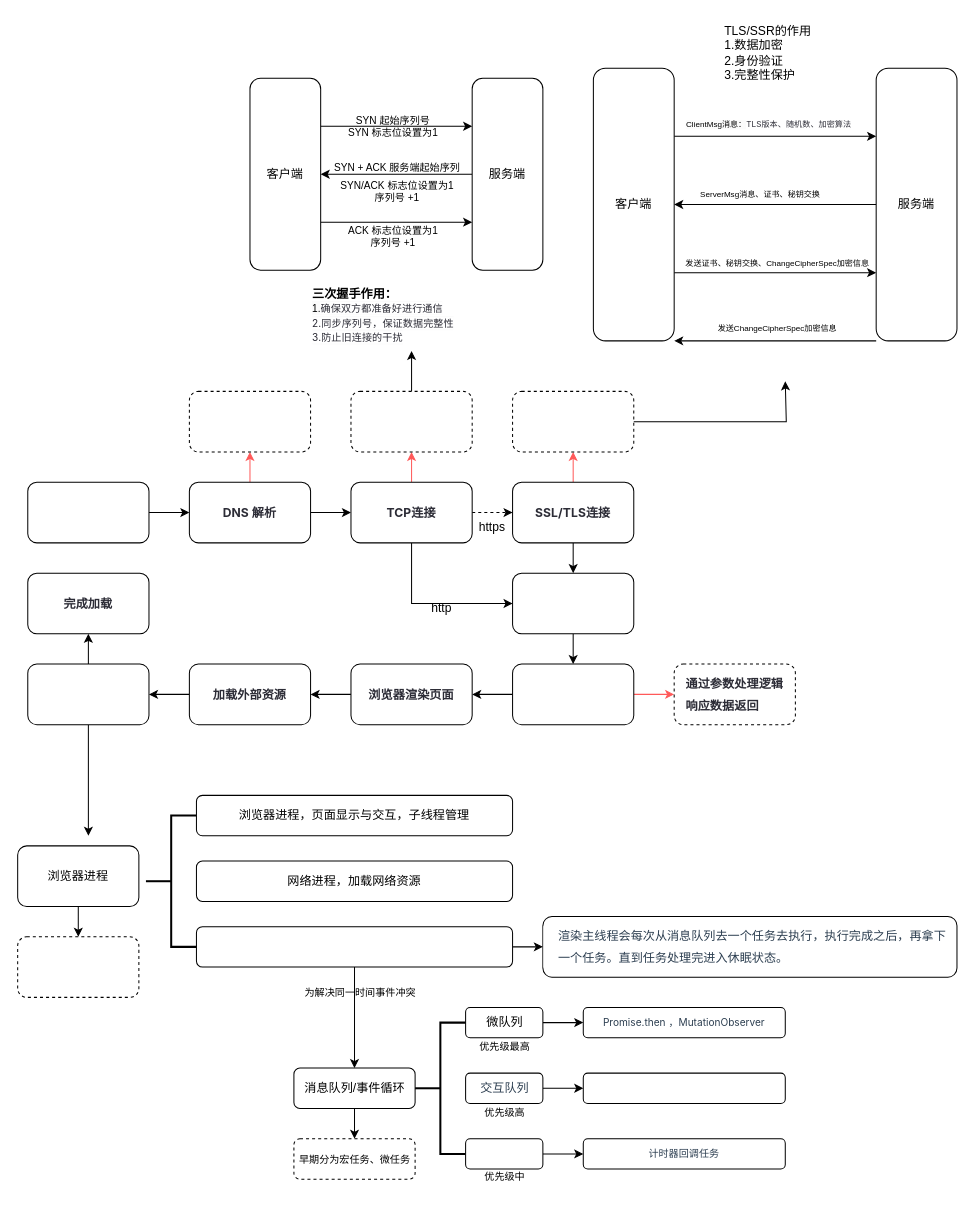
Some shapes in this 975 by 1208 pixel diagram are drawn without their labels. Each missing label, with the centre of its shape:
"1个进程至少1个线程" belongs at point 78,966.
"https 加密连接" belongs at point 573,421.
"三次握手" belongs at point 411,421.
"事件循环交互" belongs at point 88,694.
"从DNS缓存/域名服务器获取ip地址" belongs at point 249,421.
"发送http请求" belongs at point 573,603.
"地址栏输入域名回车 & 点击导航跳转" belongs at point 88,512.
"延时队列" belongs at point 504,1153.
"服务端处理请求" belongs at point 573,694.
"渲染进程，加载html/js/css" belongs at point 354,946.
"用户操作产生的事件任务" belongs at point 683,1087.
